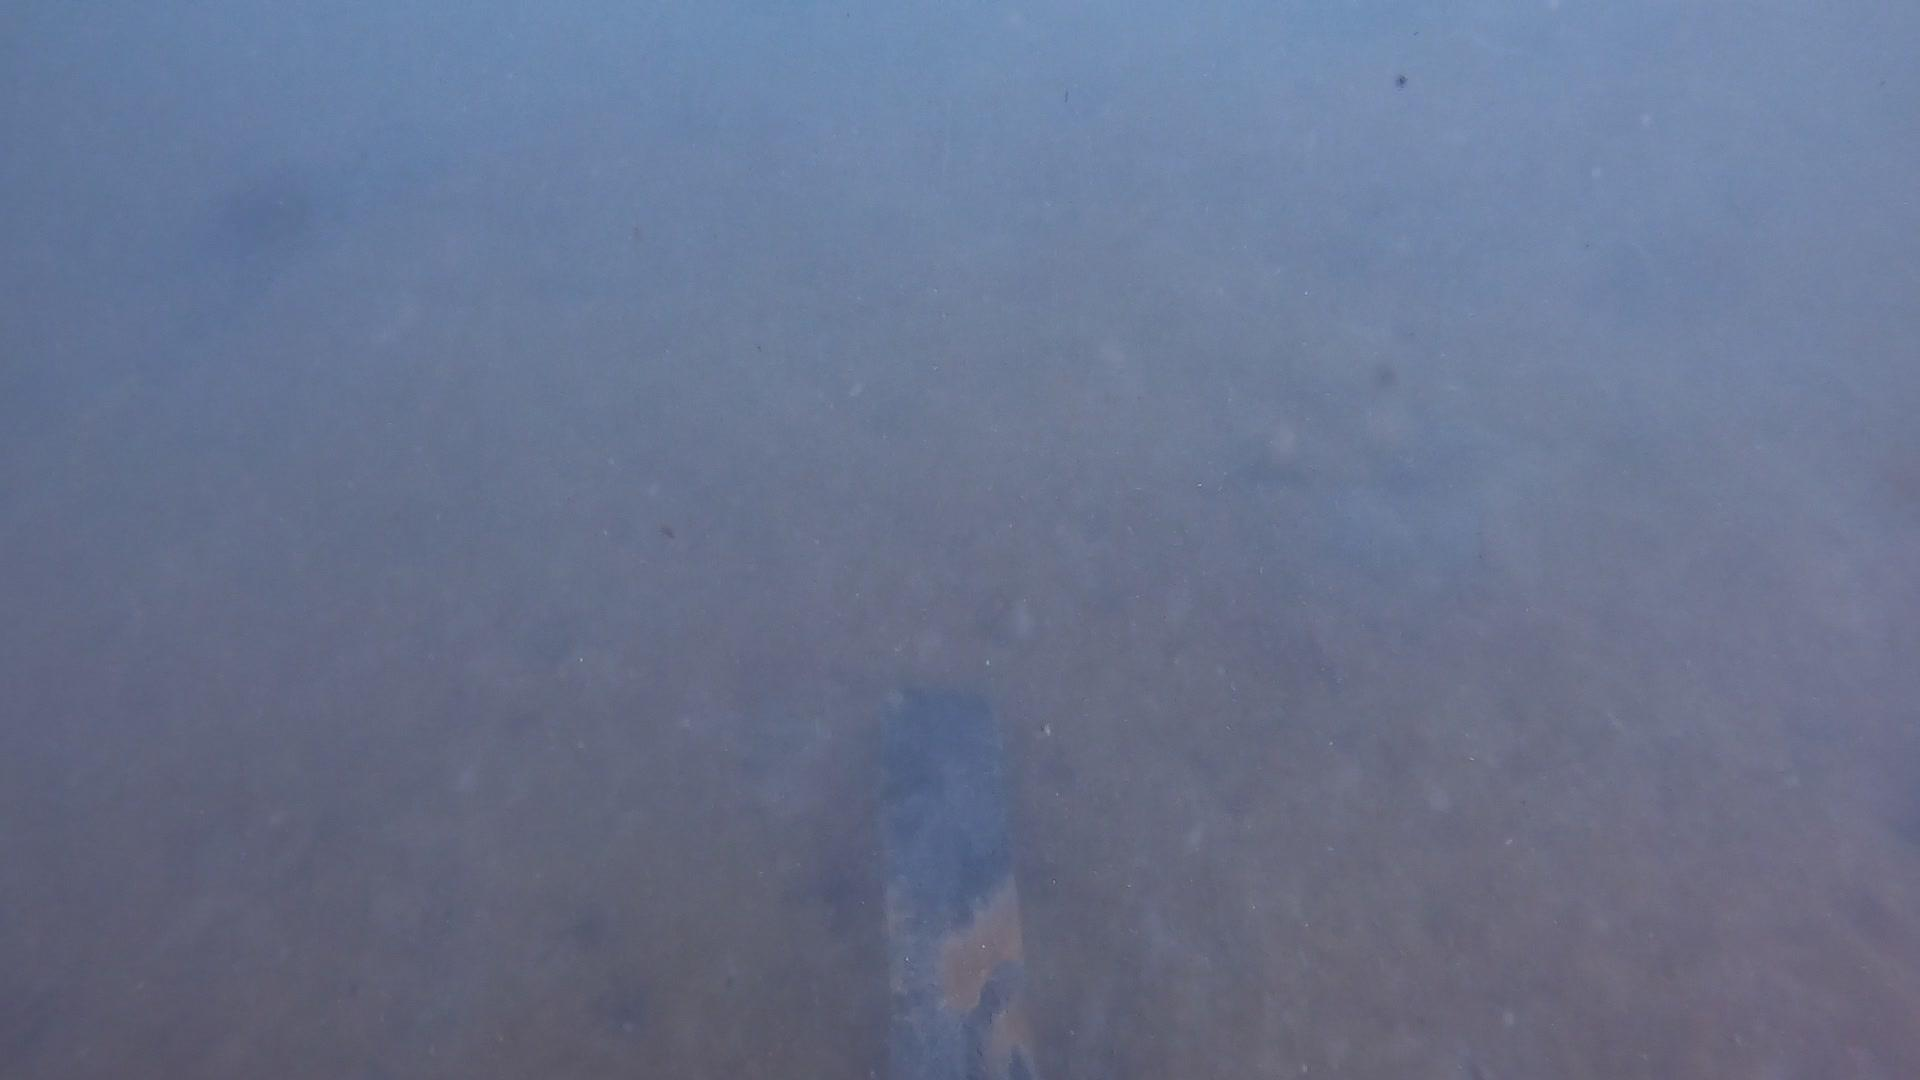wood: (865, 684, 1029, 1080)
